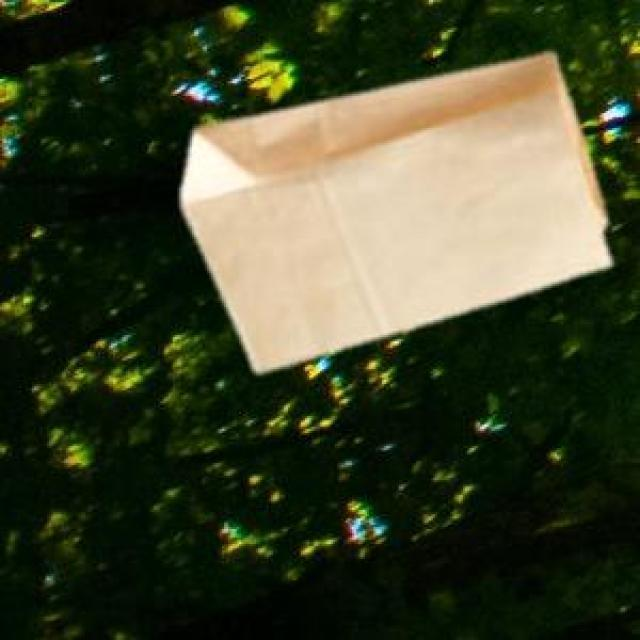paper: (177, 49, 606, 367)
